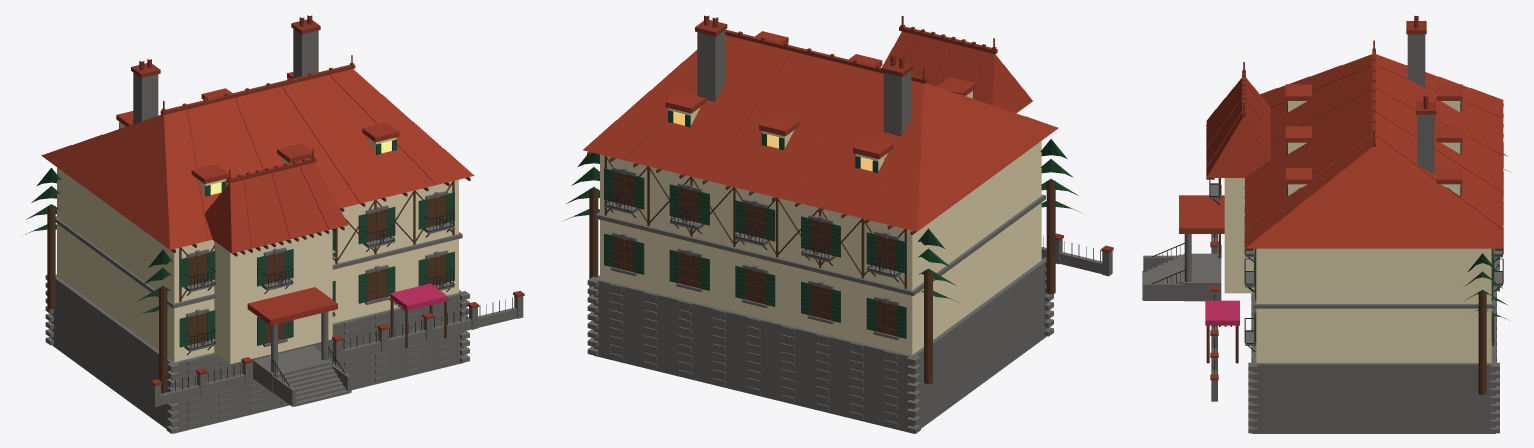
File: fv_qt_09_quang_trung_railway_quarter_manor_07.glb
3 renders of one model, left to right at view 1: azimuth 30°, elevation 25°; view 2: azimuth 150°, elevation 25°; view 3: azimuth 270°, elevation 25°, orthographic. The views are drawn at different scales.
Parts seen in each view (by area): view 1: marseille_corrugated_roof_tiles, granite_foundation_and_stairs, stucco_facade_and_dormers, colombage_timber_and_eaves, pine_green_louvered_shutters, ridge_cresting_and_chimneys, wrought_iron_balconies_3d, pine_trees_and_garden_hedges, bougainvillea_pergola_clusters; view 2: marseille_corrugated_roof_tiles, granite_foundation_and_stairs, stucco_facade_and_dormers, colombage_timber_and_eaves, pine_green_louvered_shutters, ridge_cresting_and_chimneys, pine_trees_and_garden_hedges, wrought_iron_balconies_3d; view 3: marseille_corrugated_roof_tiles, stucco_facade_and_dormers, granite_foundation_and_stairs, colombage_timber_and_eaves, ridge_cresting_and_chimneys, bougainvillea_pergola_clusters, wrought_iron_balconies_3d, pine_green_louvered_shutters, pine_trees_and_garden_hedges.
Boxes of the visible parts, x1=… form: marseille_corrugated_roof_tiles: x1=41, y1=69, x2=474, y2=325; granite_foundation_and_stairs: x1=45, y1=29, x2=523, y2=433; stucco_facade_and_dormers: x1=57, y1=122, x2=458, y2=364; colombage_timber_and_eaves: x1=47, y1=177, x2=470, y2=390; pine_green_louvered_shutters: x1=119, y1=123, x2=454, y2=347; ridge_cresting_and_chimneys: x1=131, y1=15, x2=524, y2=385; wrought_iron_balconies_3d: x1=162, y1=209, x2=512, y2=394; pine_trees_and_garden_hedges: x1=22, y1=168, x2=172, y2=316; bougainvillea_pergola_clusters: x1=390, y1=283, x2=447, y2=310; marseille_corrugated_roof_tiles: x1=583, y1=31, x2=1058, y2=231; granite_foundation_and_stairs: x1=587, y1=30, x2=1112, y2=433; stucco_facade_and_dormers: x1=600, y1=91, x2=1041, y2=354; colombage_timber_and_eaves: x1=587, y1=151, x2=1055, y2=383; pine_green_louvered_shutters: x1=604, y1=91, x2=973, y2=338; ridge_cresting_and_chimneys: x1=695, y1=15, x2=1113, y2=252; pine_trees_and_garden_hedges: x1=562, y1=139, x2=1080, y2=302; wrought_iron_balconies_3d: x1=604, y1=187, x2=1100, y2=281; marseille_corrugated_roof_tiles: x1=1179, y1=54, x2=1503, y2=248; stucco_facade_and_dormers: x1=1224, y1=101, x2=1491, y2=362; granite_foundation_and_stairs: x1=1142, y1=34, x2=1502, y2=433; colombage_timber_and_eaves: x1=1206, y1=103, x2=1503, y2=394; ridge_cresting_and_chimneys: x1=1210, y1=15, x2=1436, y2=380; bougainvillea_pergola_clusters: x1=1205, y1=300, x2=1239, y2=325; wrought_iron_balconies_3d: x1=1151, y1=142, x2=1503, y2=374; pine_green_louvered_shutters: x1=1218, y1=101, x2=1494, y2=346; pine_trees_and_garden_hedges: x1=1463, y1=154, x2=1509, y2=320.
Bounding box in the file's own units: 26.52 × 20.63 × 23.42.
